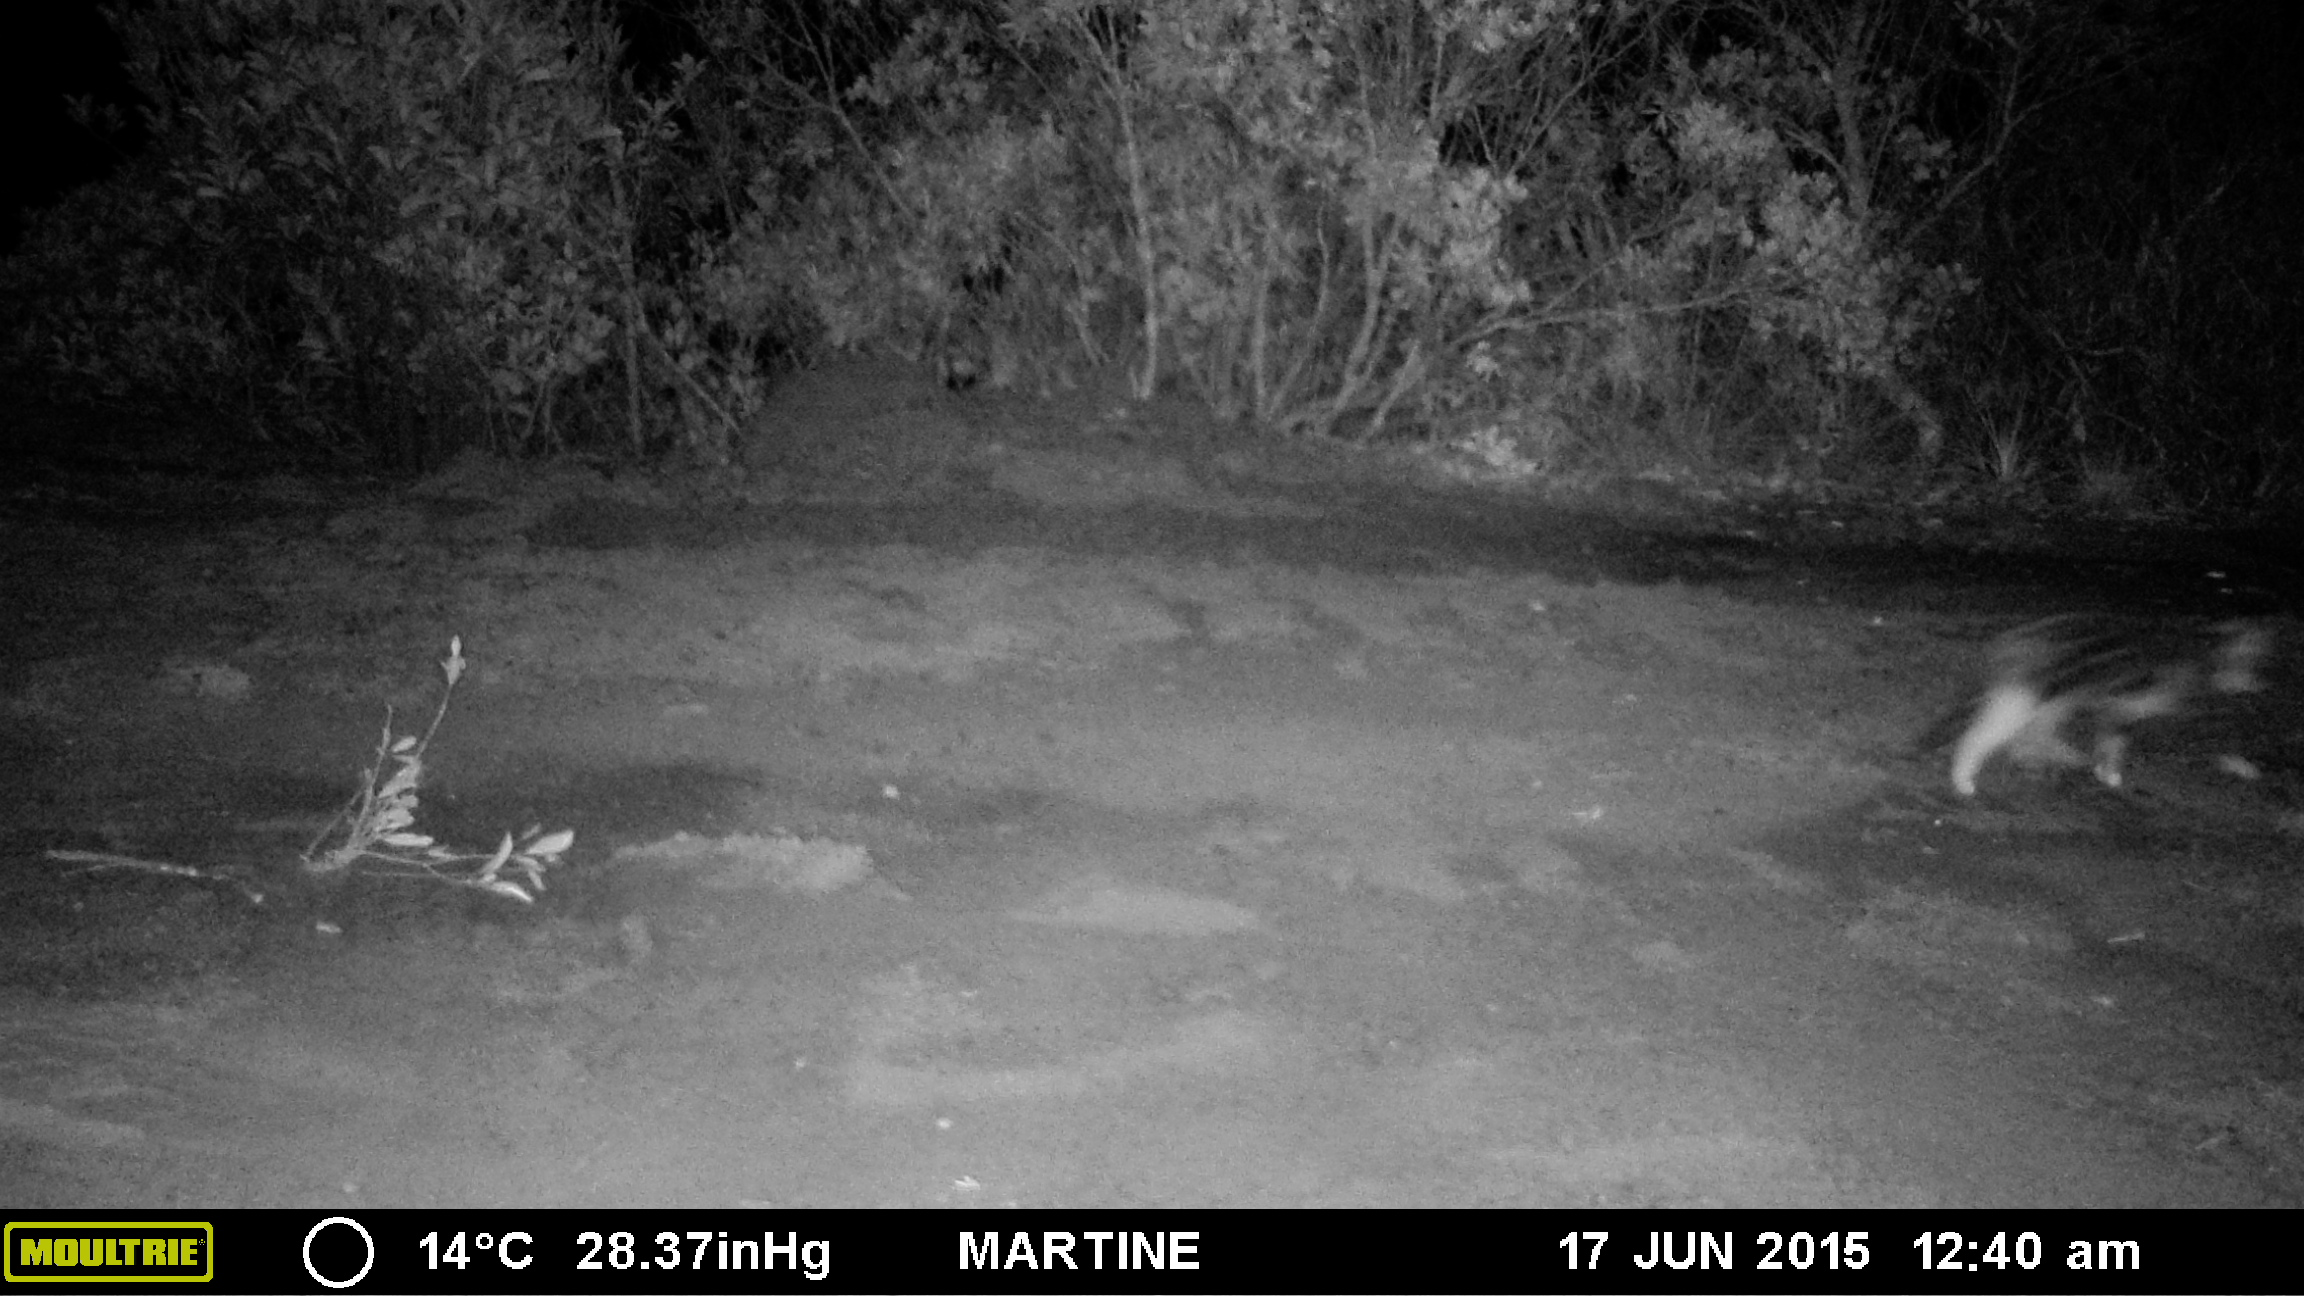cat: (1907, 595, 2295, 801)
